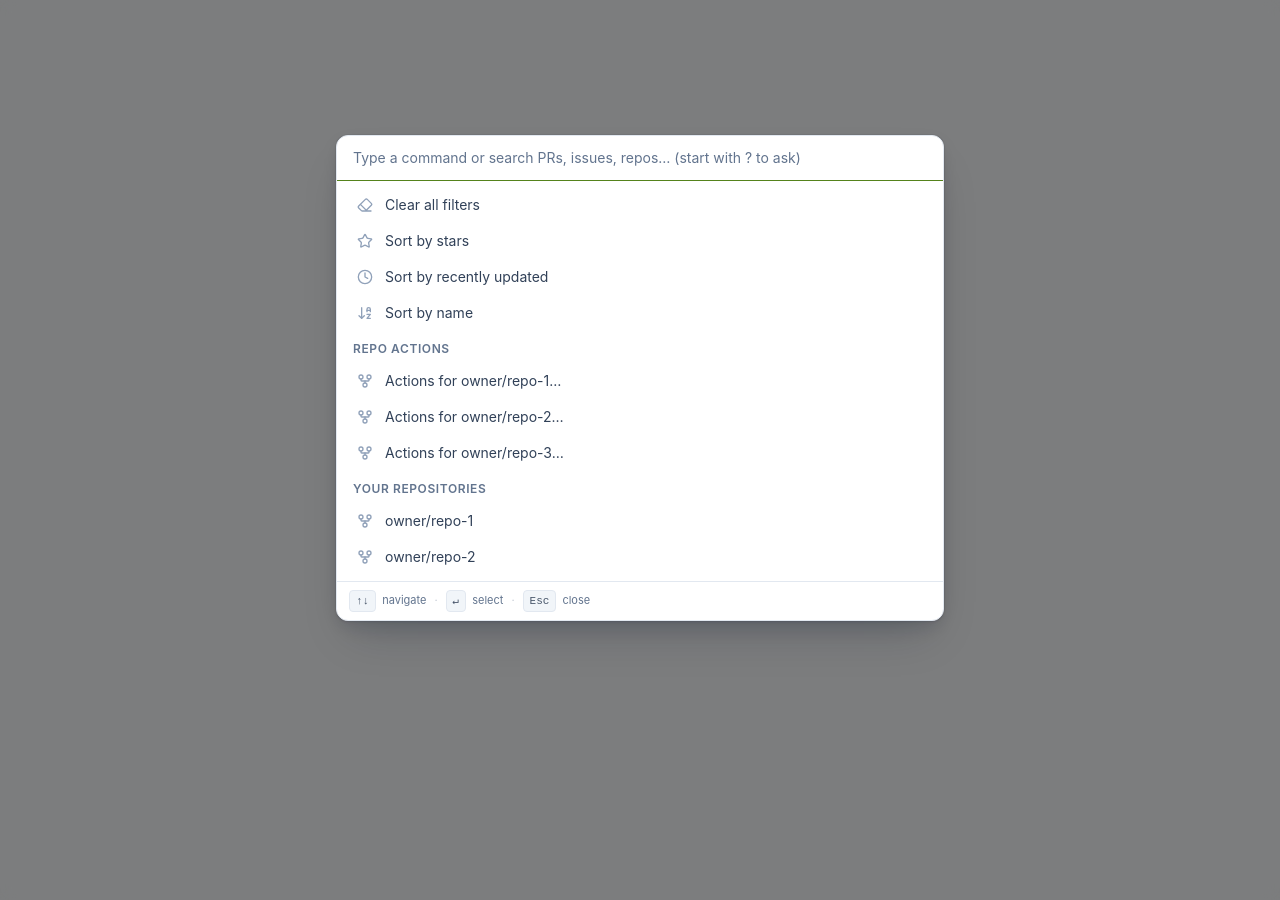
Test: CommandPalette — repo actions drill-down (G8) › Backspace on an empty query pops back to the top level
The image size is (1280, 900).
(page scrolled)
Click the option "Actions for owner/repo-1…" at (459,380), box [357,372,561,389]
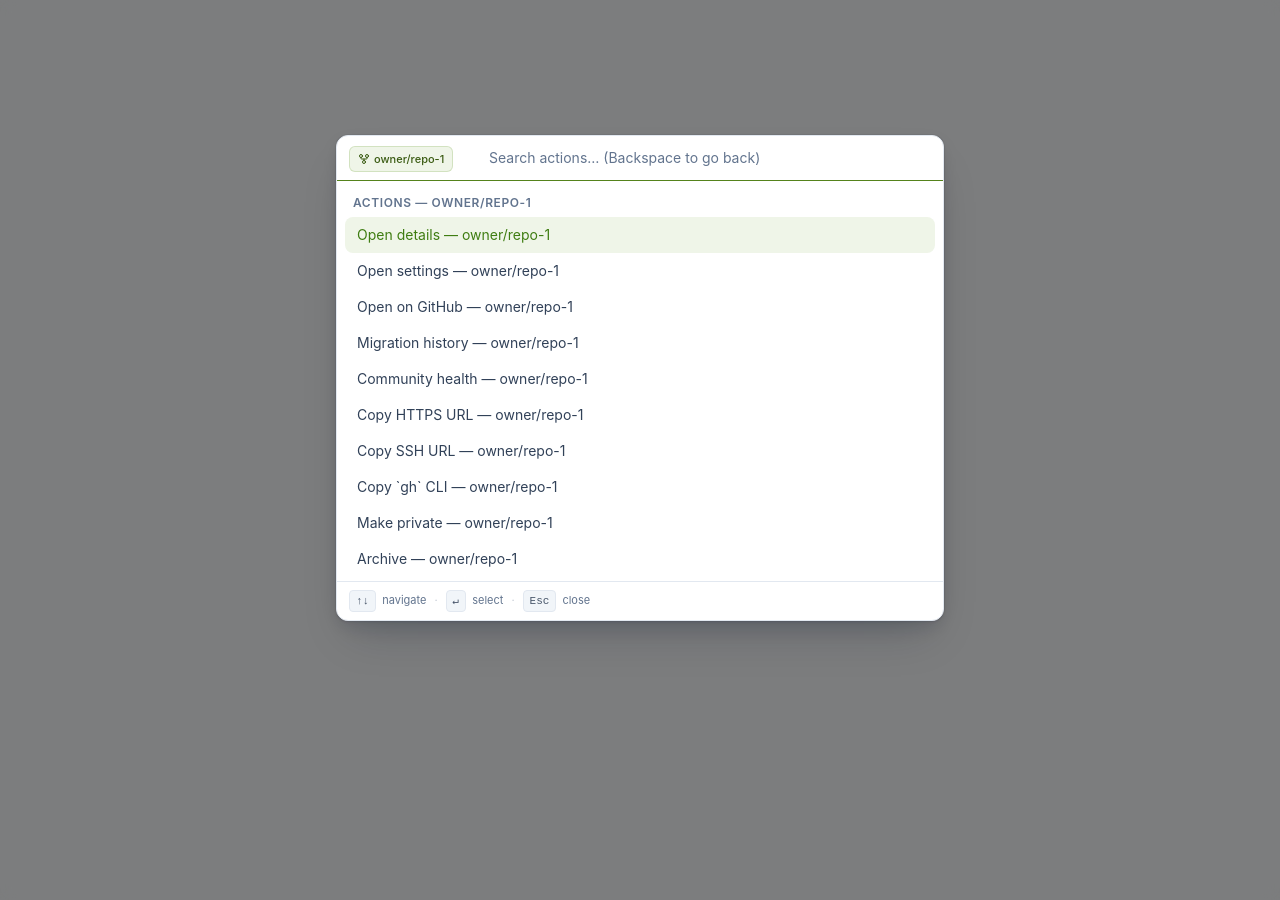
Expected: the text "Actions — owner/repo-1" is shown, [353,195,532,210]
Press Backspace in the dropdown with placeholder "Search actions… (Backspace to go back)", box [337,136,943,181]
(page scrolled)
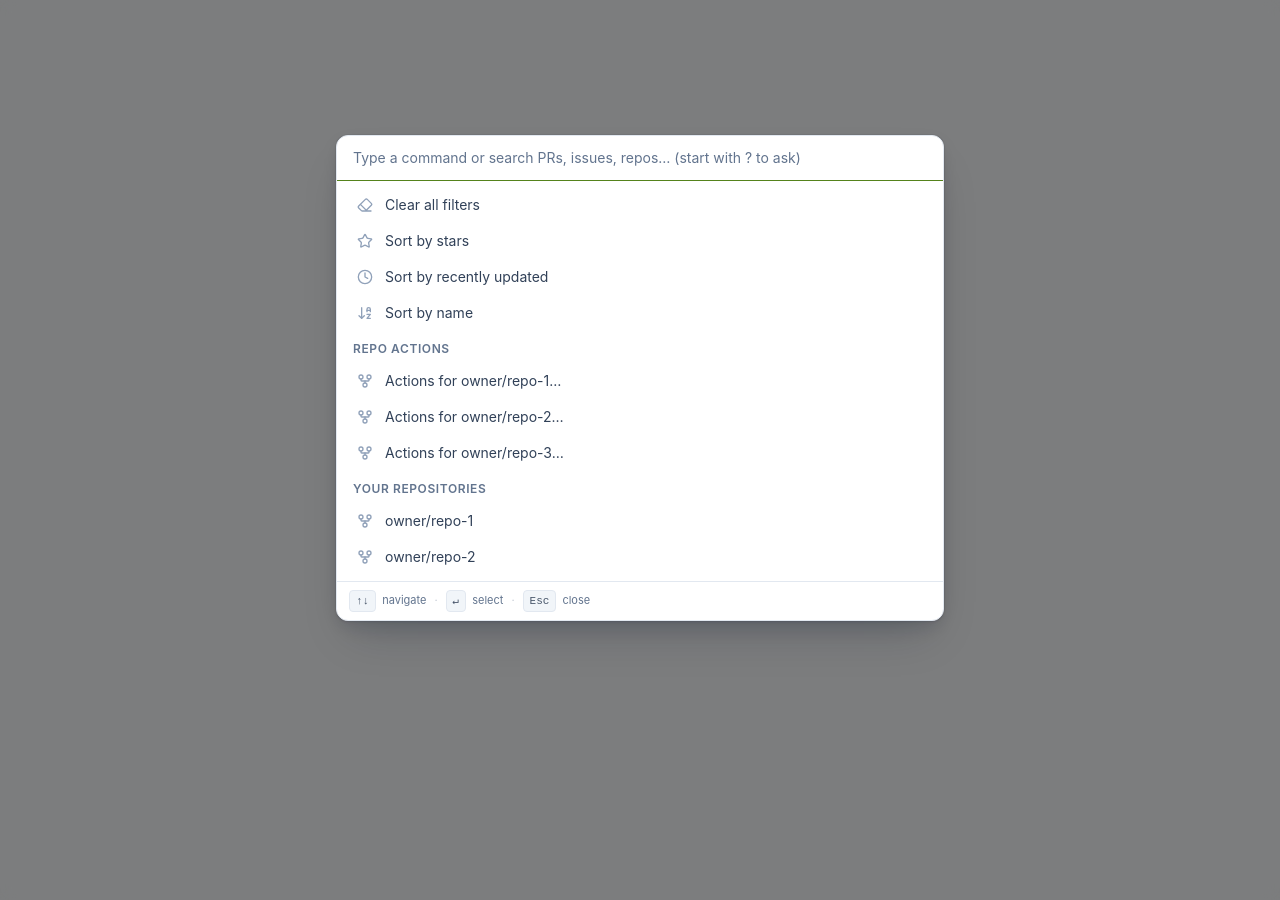
Expected: the text "Actions — owner/repo-1" is gone
Expected: the text "Actions for owner/repo-1…" is shown, [385,372,561,389]
